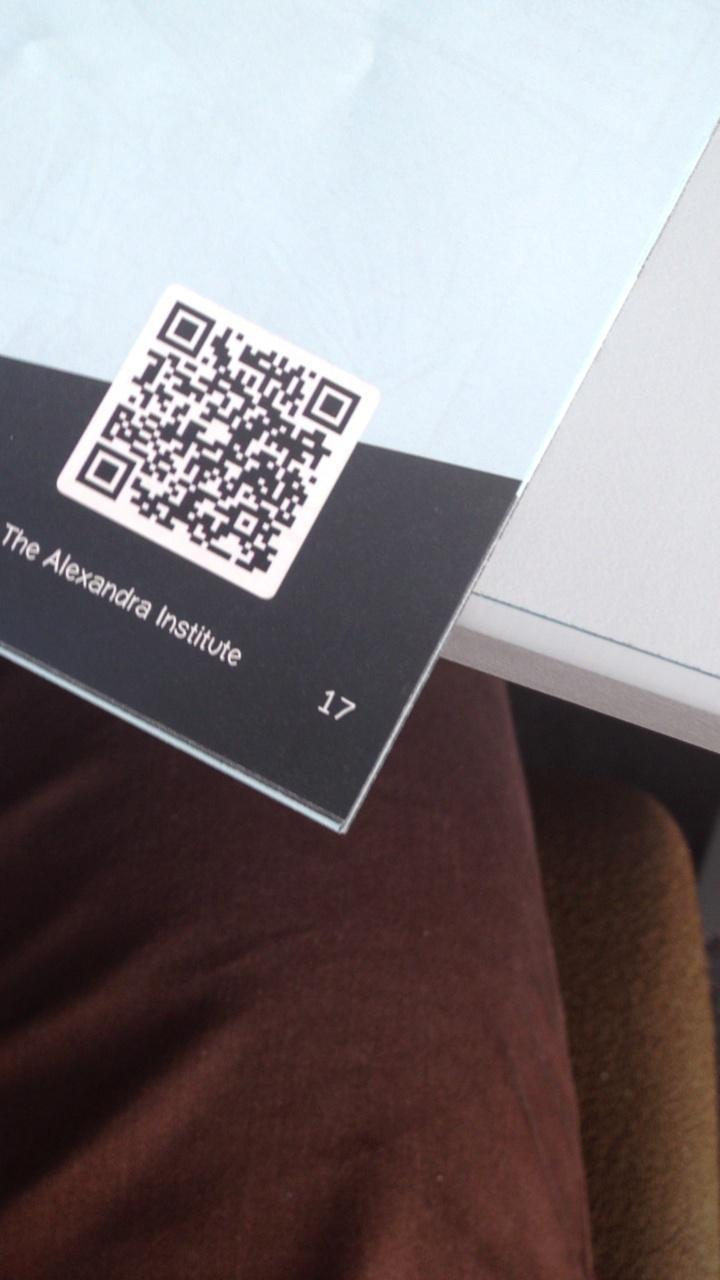Finder pattern: (299, 371, 366, 440), (155, 295, 216, 359), (78, 439, 136, 503)
